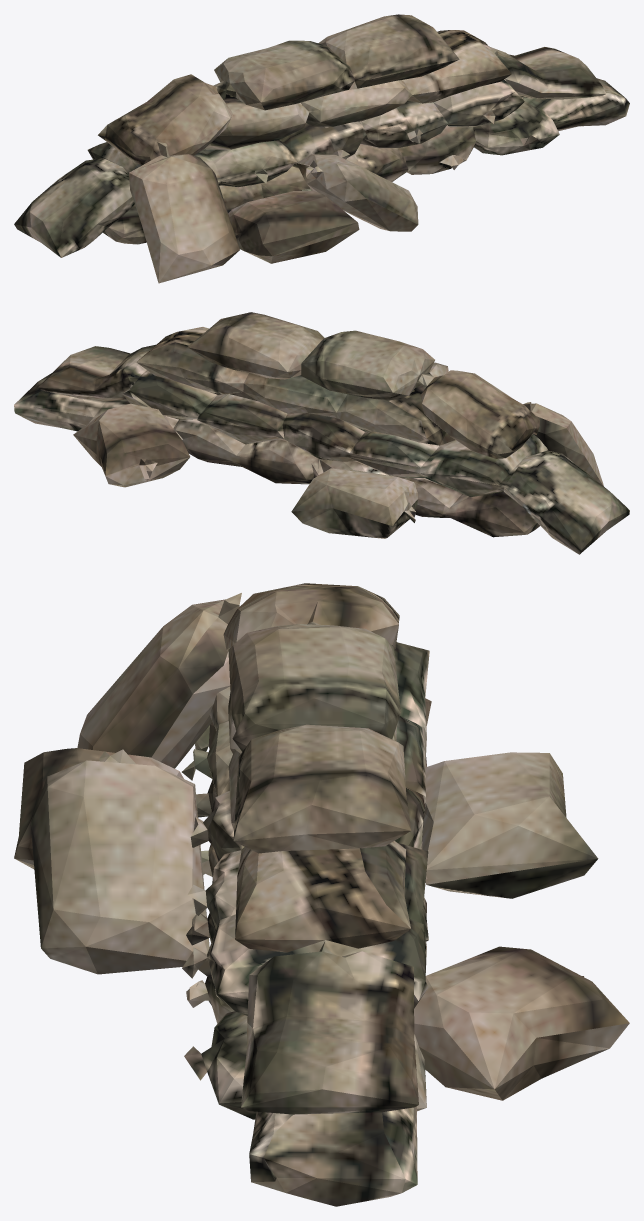
Rendered from sandbags_02.obj.
3 renders of one model, top to bottom at view 1: azimuth 30°, elevation 25°; view 2: azimuth 150°, elevation 25°; view 3: azimuth 270°, elevation 25°, orthographic. The views are drawn at different scales.
Visible parts, largest first — view 1: sandbags_02; view 2: sandbags_02; view 3: sandbags_02.
Part boxes in pixels (x1,y1,x2,y2): sandbags_02: (14, 14, 629, 283); sandbags_02: (14, 312, 629, 554); sandbags_02: (14, 583, 629, 1206).
Size of the model in its own units: 8.66 by 2.07 by 4.31.
